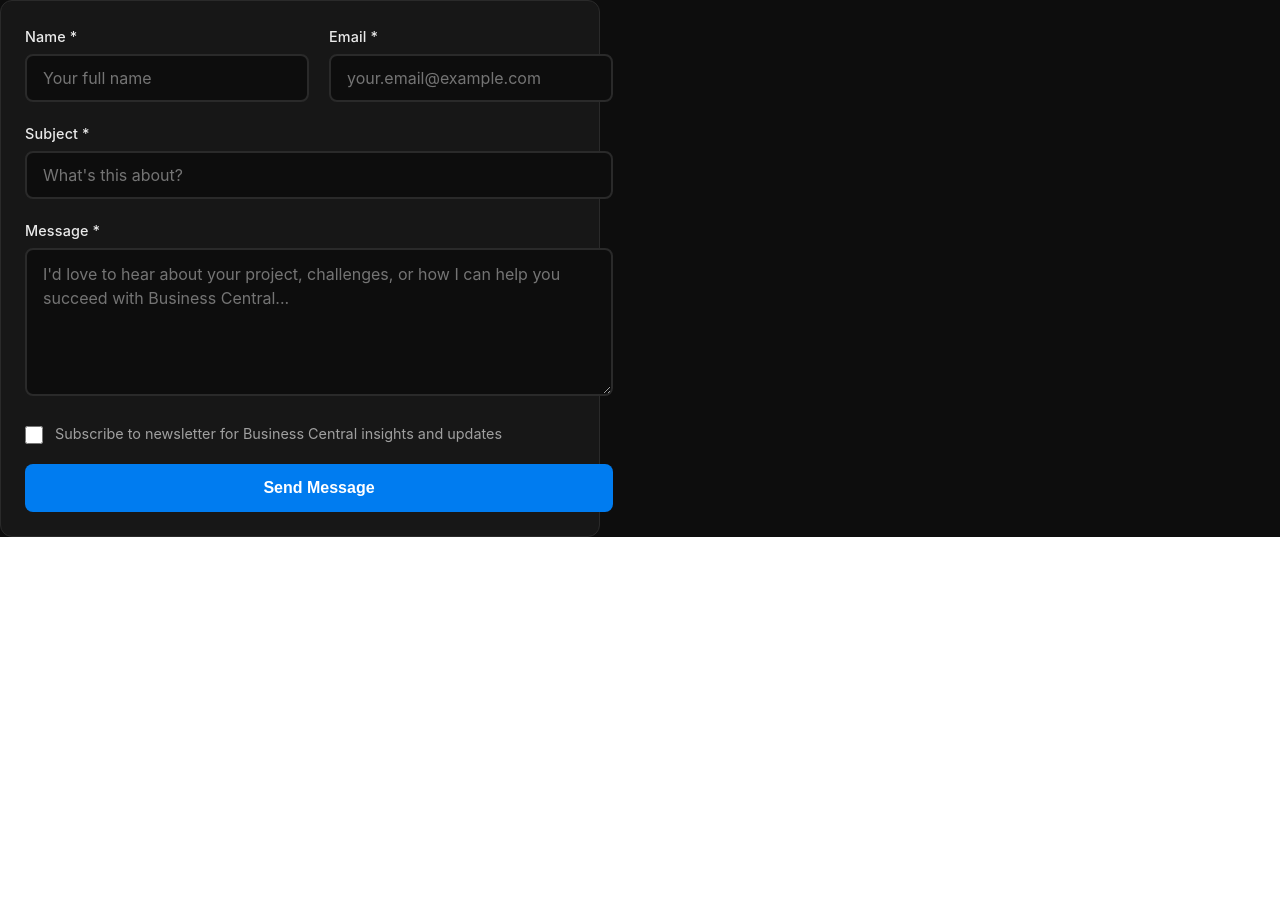
ContactForm Component › validates email format
Type "invalid-email" into the field labelled "Email *" at (471, 78), box [329,54,613,102]
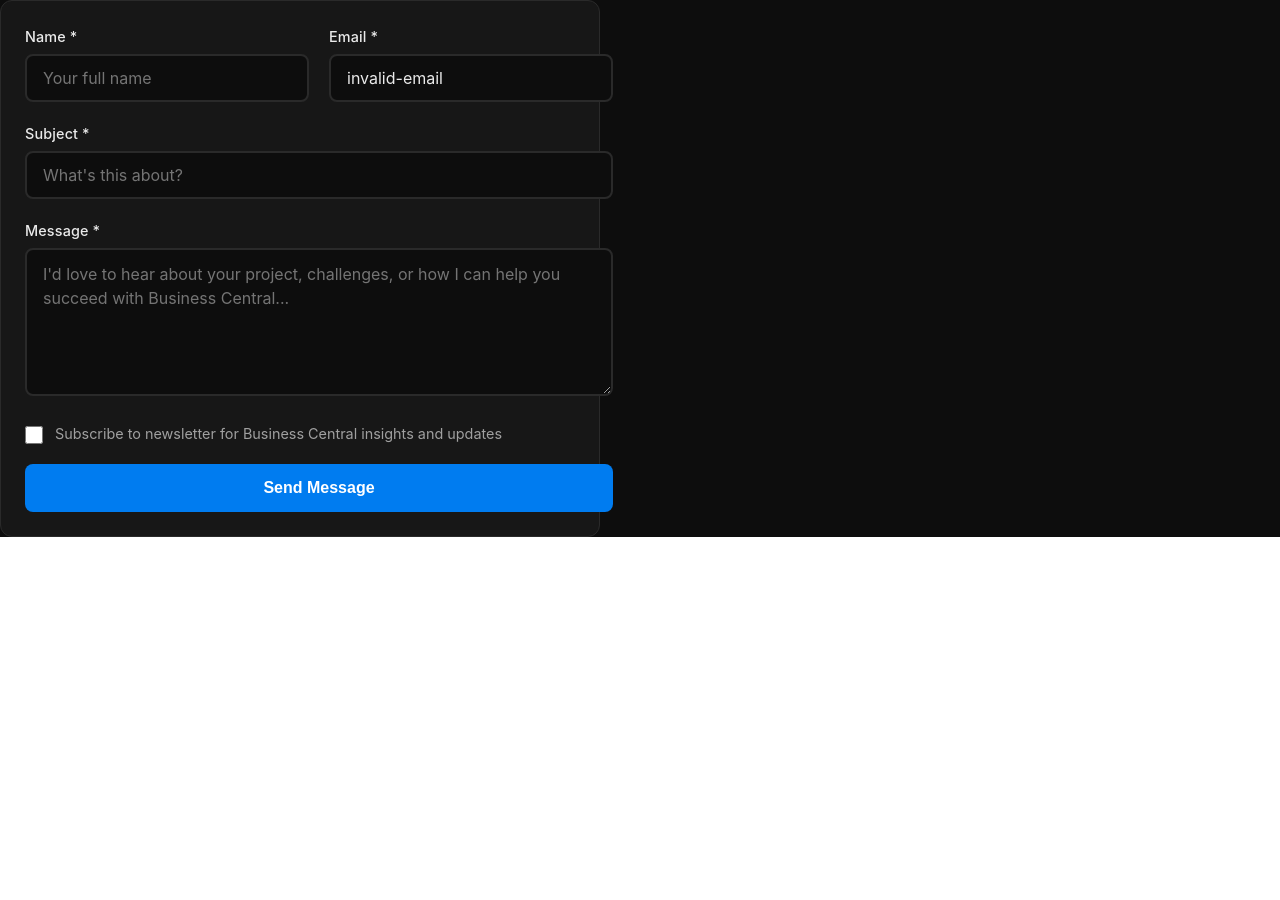
Click the button "Send Message" at (319, 488), box [25,464,613,512]
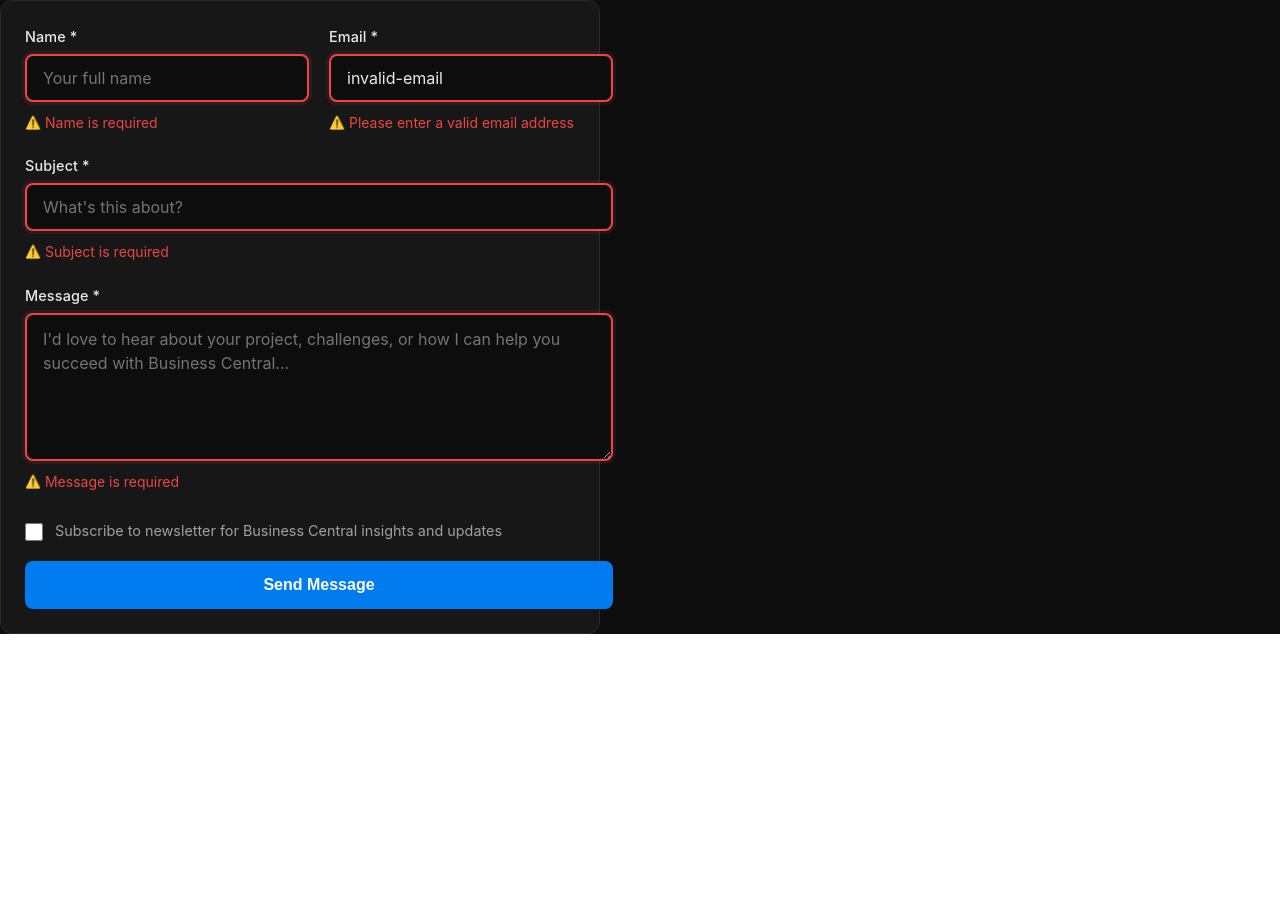
Expected: the text "Please enter a valid email address" is shown, [349,114,574,131]
